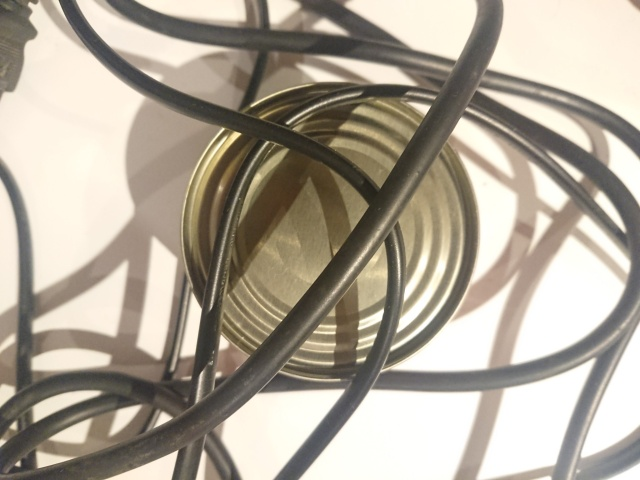Podravka Luncheon Meat 150g: (176, 78, 484, 384)
